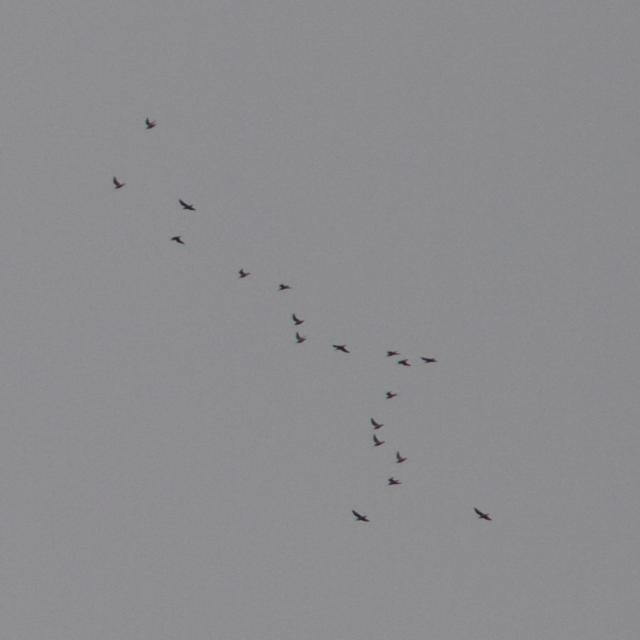bird: (180, 198, 199, 214), (475, 509, 494, 523), (112, 178, 128, 194), (369, 416, 386, 431), (354, 511, 372, 525), (332, 343, 351, 356), (291, 312, 307, 327), (394, 450, 410, 465), (144, 118, 158, 133), (420, 356, 437, 368), (372, 435, 386, 449), (294, 332, 308, 346), (388, 476, 403, 489), (277, 281, 292, 294), (169, 235, 184, 248), (397, 359, 413, 371), (237, 268, 251, 281), (384, 348, 400, 359), (386, 391, 400, 403)
